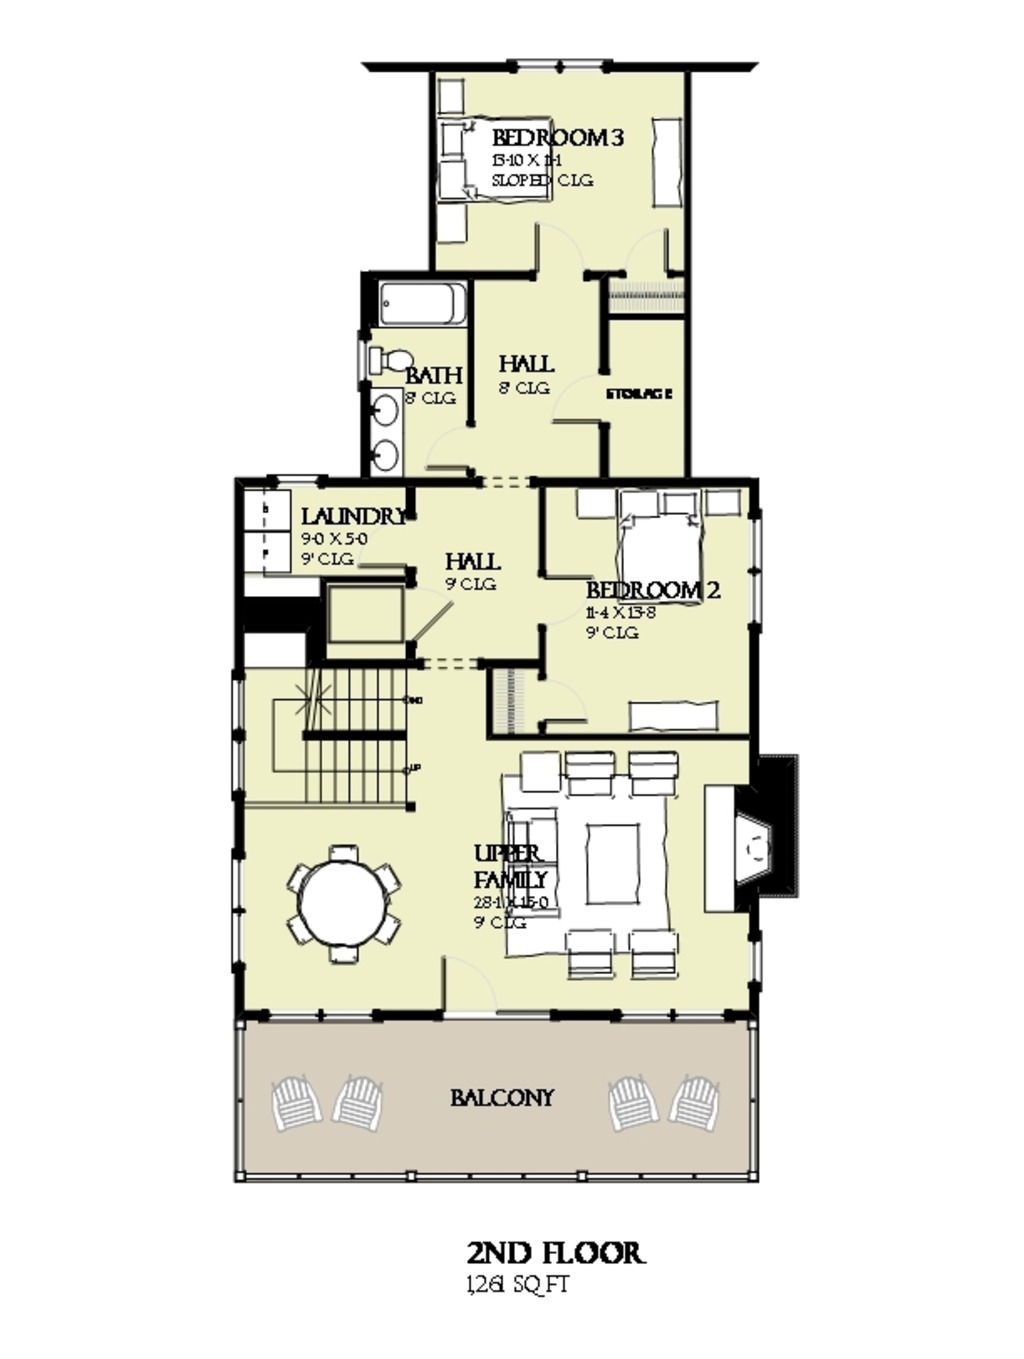bed: (615, 486, 701, 580)
round_table: (279, 835, 408, 970)
small_sink: (368, 385, 408, 482)
stairs: (236, 666, 433, 805)
tub: (376, 275, 475, 335)
windows: (504, 51, 610, 82), (746, 514, 768, 625), (230, 847, 248, 970), (260, 1004, 381, 1022), (617, 1011, 728, 1027)
